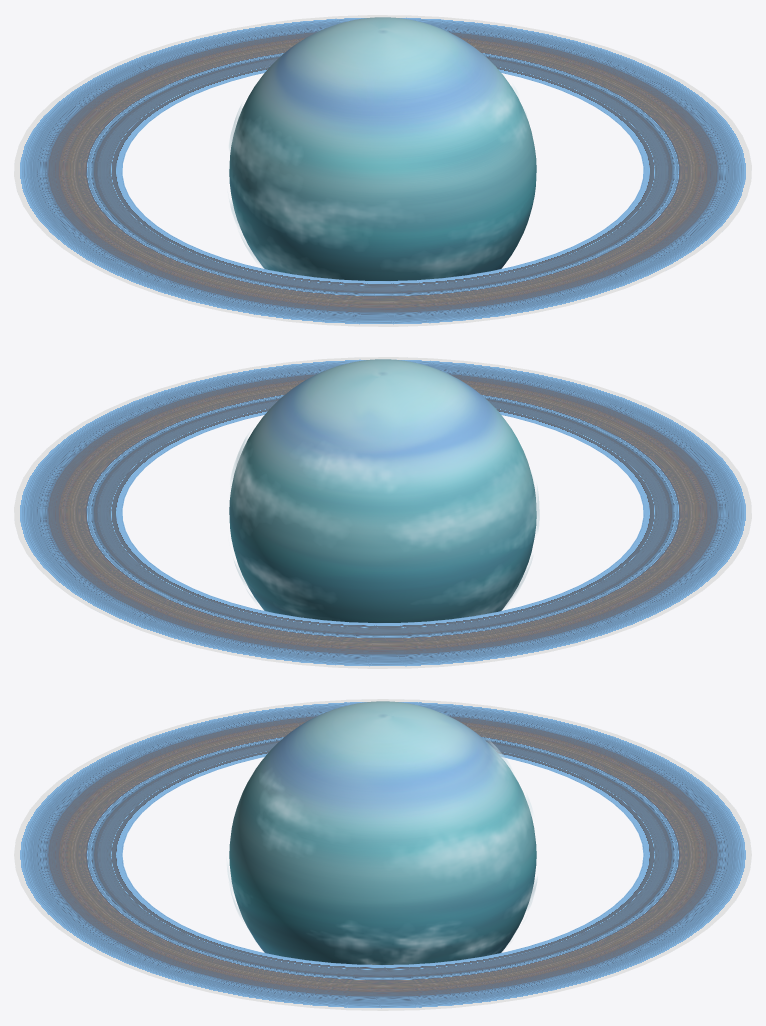
File: Uranus.gltf
The picture shows the model from 3 angles, top to bottom: view 1: azimuth 30°, elevation 25°; view 2: azimuth 150°, elevation 25°; view 3: azimuth 270°, elevation 25°; orthographic projection.
Parts seen in each view (by area): view 1: Rings, Uranus_Globe, Uranus_Clouds; view 2: Rings, Uranus_Globe, Uranus_Clouds; view 3: Rings, Uranus_Globe, Uranus_Clouds.
Boxes of the visible parts, bbox=[...] form: Rings: bbox=[14, 15, 751, 326]; Uranus_Globe: bbox=[229, 17, 536, 280]; Uranus_Clouds: bbox=[229, 90, 527, 278]; Rings: bbox=[14, 357, 751, 668]; Uranus_Globe: bbox=[229, 359, 536, 622]; Uranus_Clouds: bbox=[231, 436, 539, 616]; Rings: bbox=[14, 699, 751, 1010]; Uranus_Globe: bbox=[229, 701, 536, 964]; Uranus_Clouds: bbox=[227, 737, 537, 964].
Bounding box in the file's own units: 48.03 × 20.4 × 48.03.
3 materials, 3 textured.
